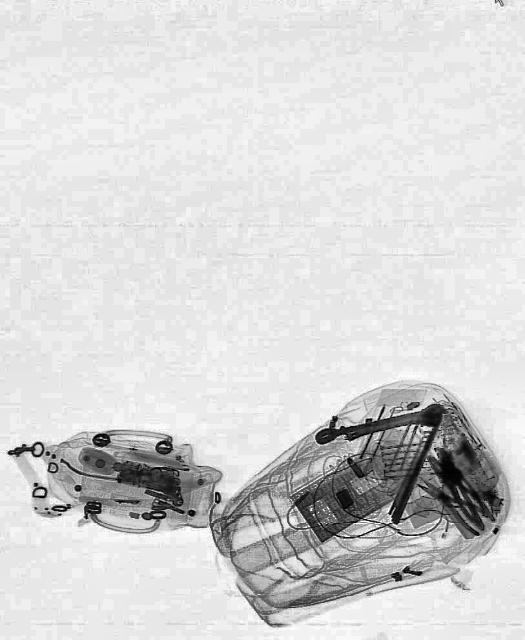Pliers: (420, 446, 496, 532), (410, 466, 492, 538)
Wrench: (314, 400, 448, 450)
